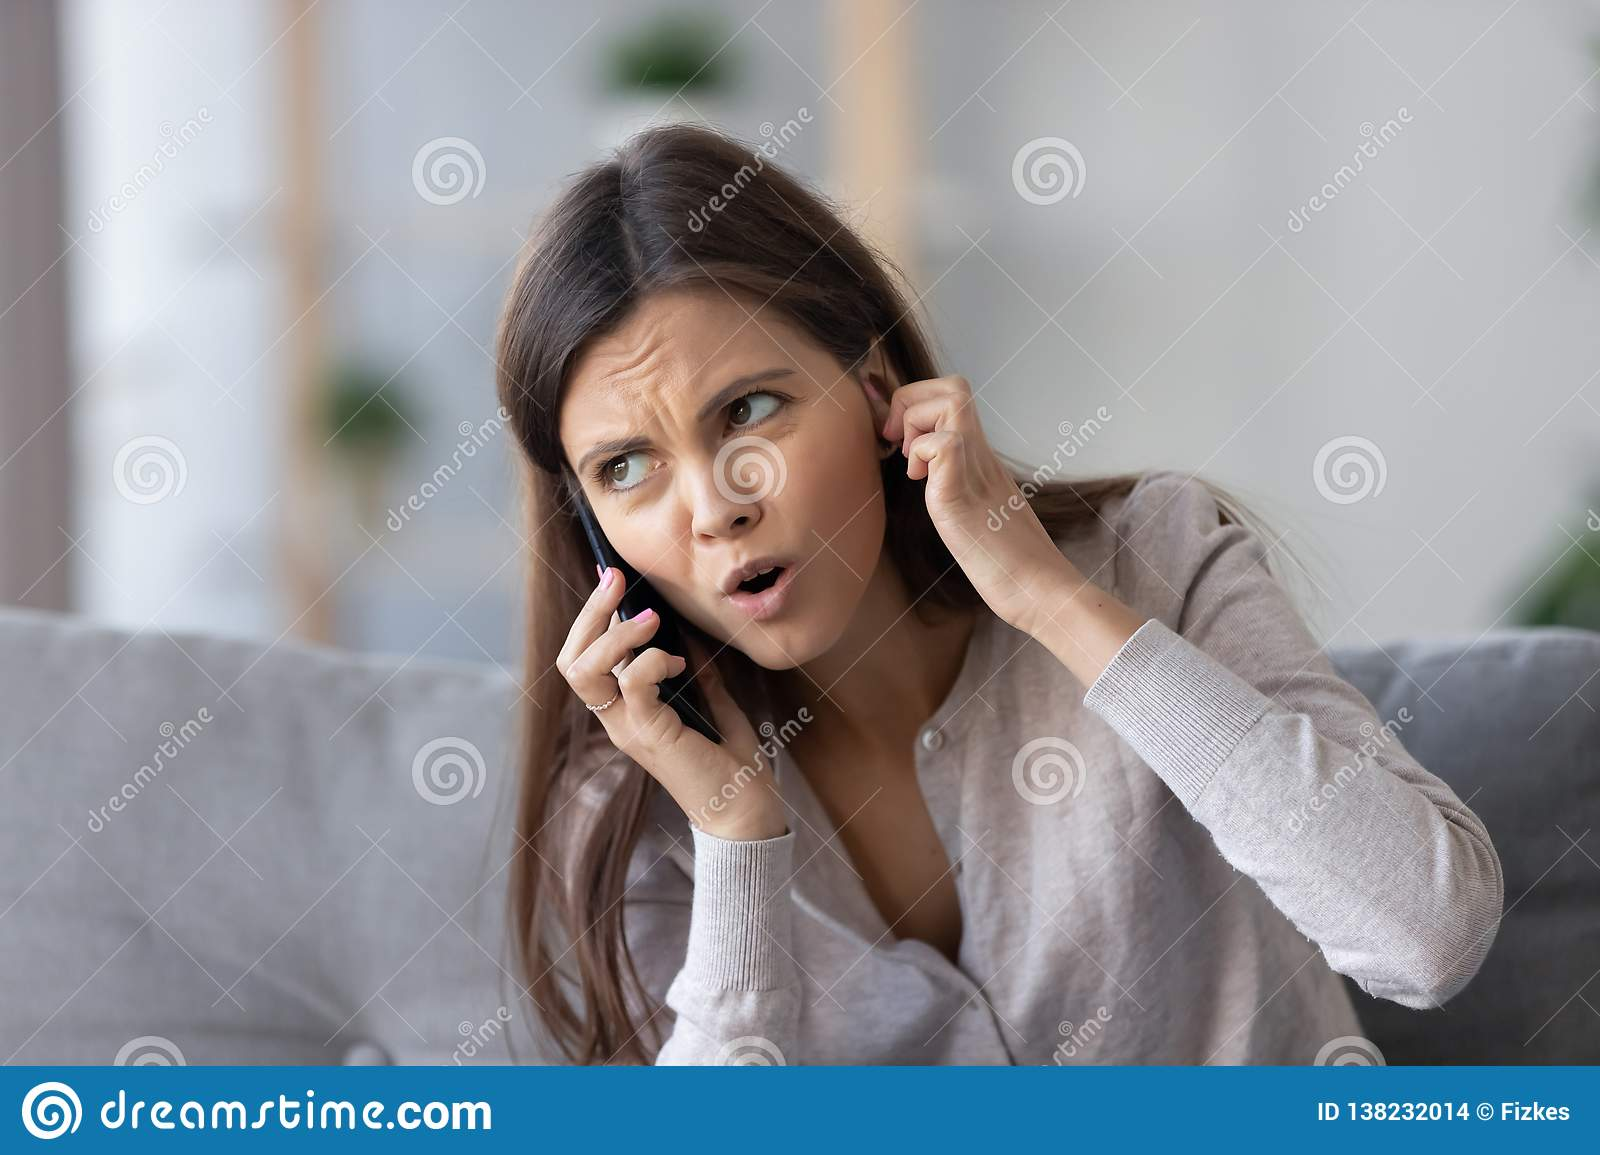phone: (565, 460, 737, 760)
talk: (557, 350, 853, 849)
